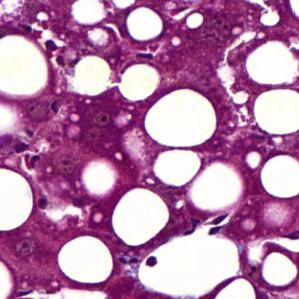steatosis: (143, 88, 219, 147), (110, 185, 172, 246), (55, 235, 117, 287)
